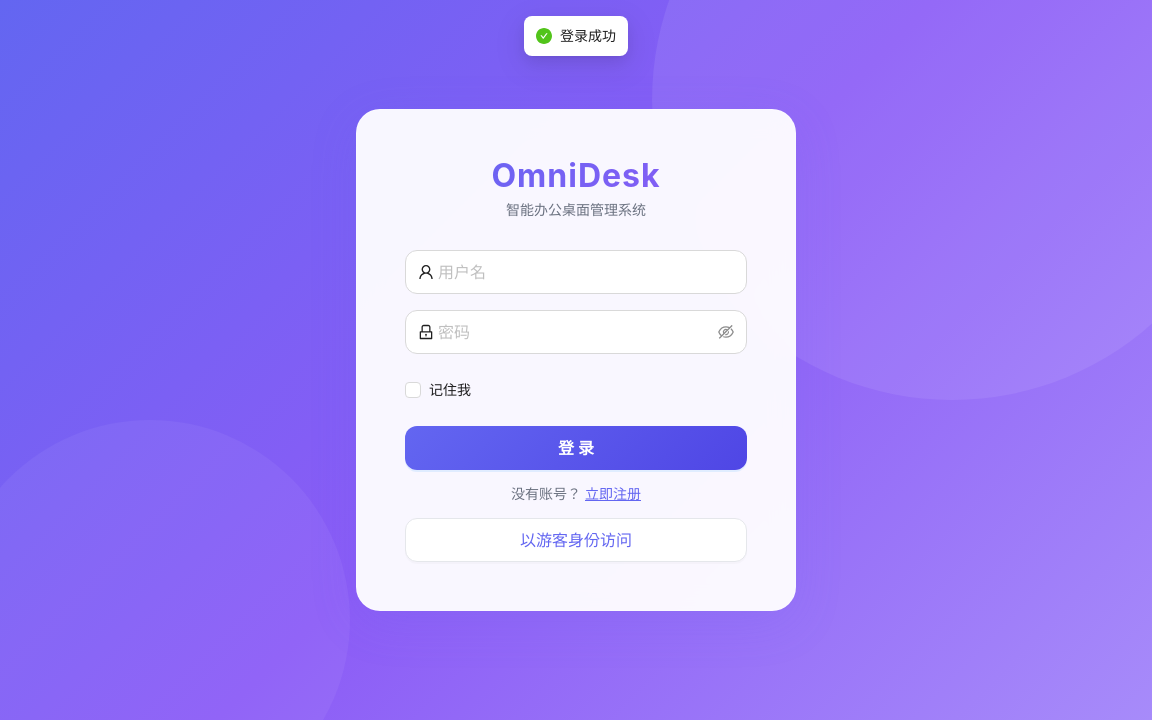
Test case: Login Component › should handle failed login and display error message
The image size is (1152, 720).
Type "wronguser" into the field with placeholder "用户名". click: (586, 272)
box: x1=438 y1=259 x2=734 y2=285
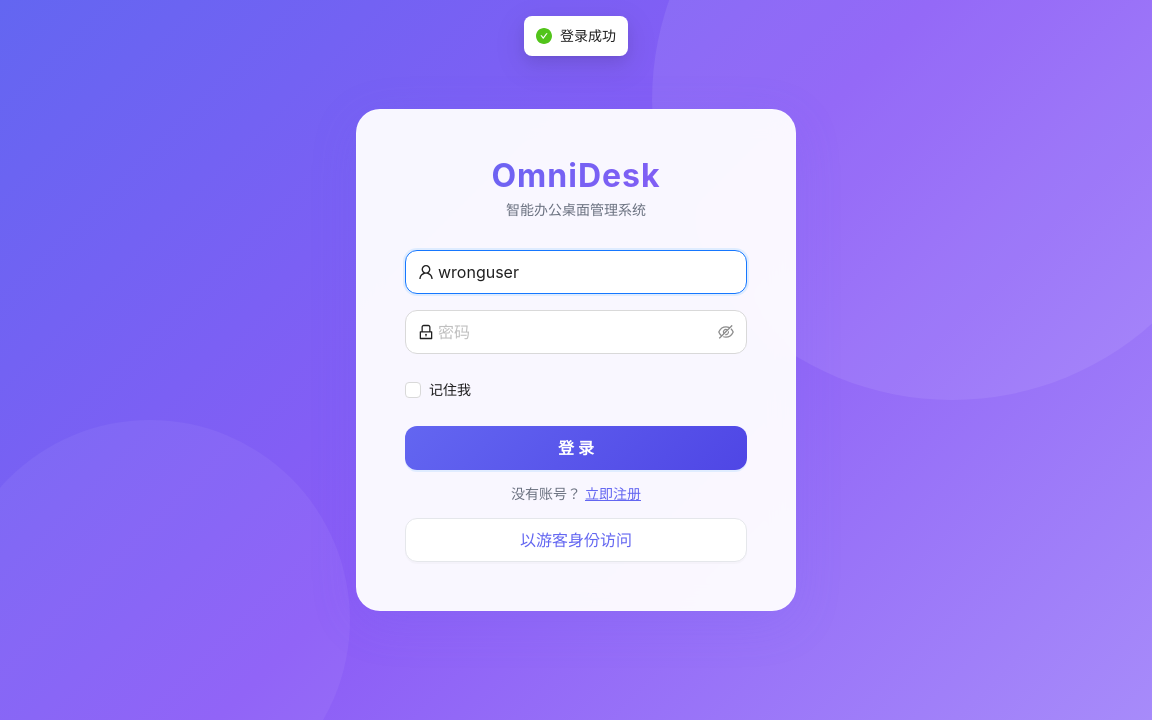
Type "wrongpassword" into the password field with placeholder "密码". click: (576, 332)
box: x1=438 y1=319 x2=714 y2=345
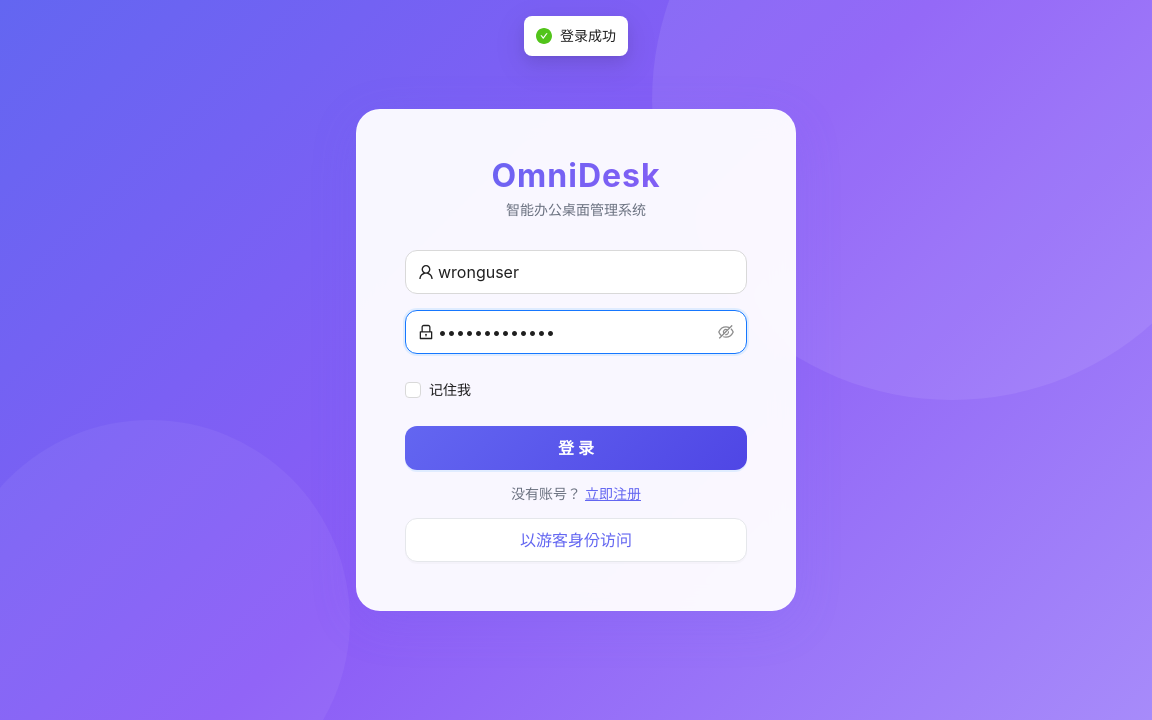
Click the button "登 录". click: click(576, 448)
box: x1=405 y1=426 x2=747 y2=470
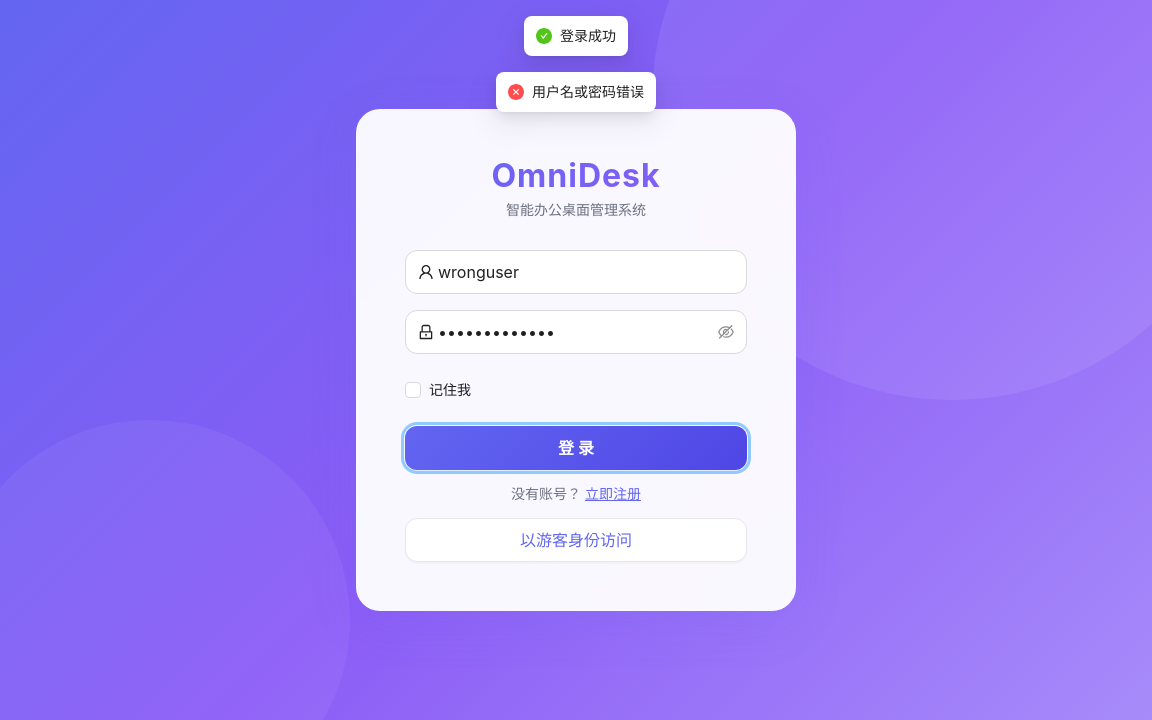
Expected: the text "用户名或密码错误" is shown, x1=532 y1=81 x2=644 y2=103
